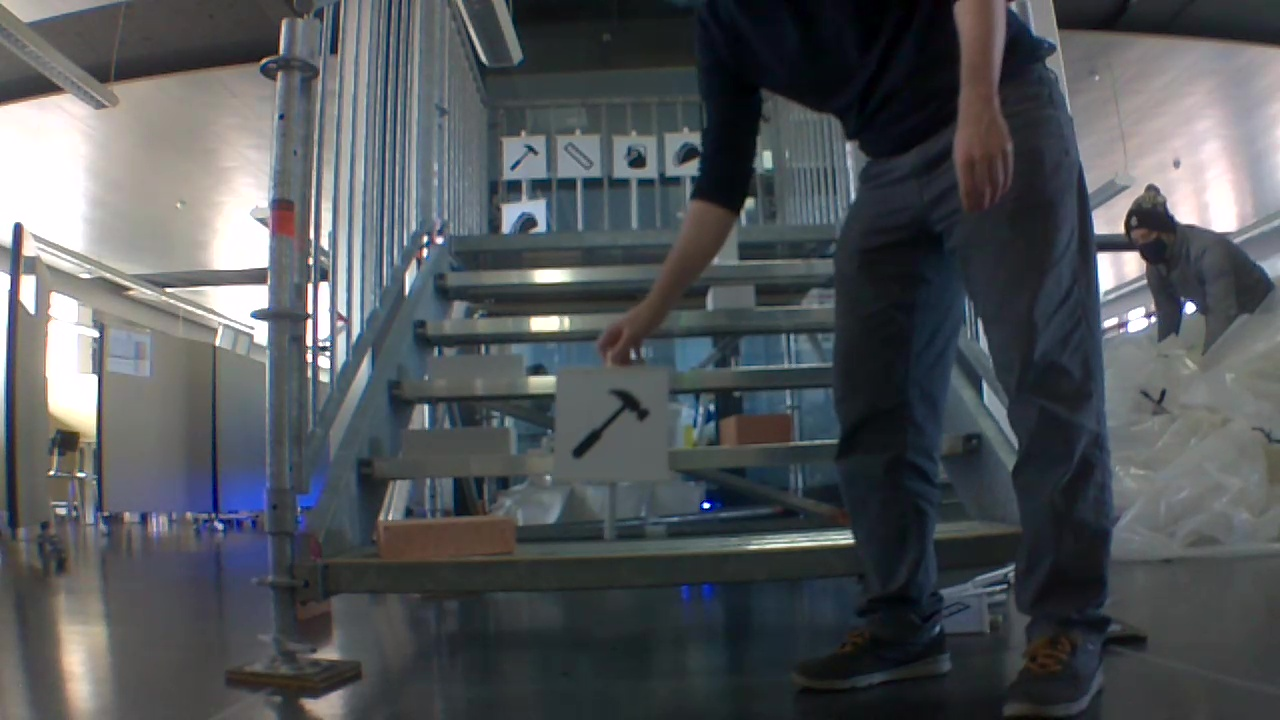brick: (378, 517, 511, 555), (402, 428, 515, 457), (427, 355, 525, 380), (721, 412, 788, 442), (709, 286, 753, 308)
bucket: (621, 142, 648, 172)
hammer: (557, 381, 656, 467), (503, 139, 542, 172)
ruler: (557, 141, 594, 171)
taco: (506, 206, 541, 233), (673, 136, 697, 167)
